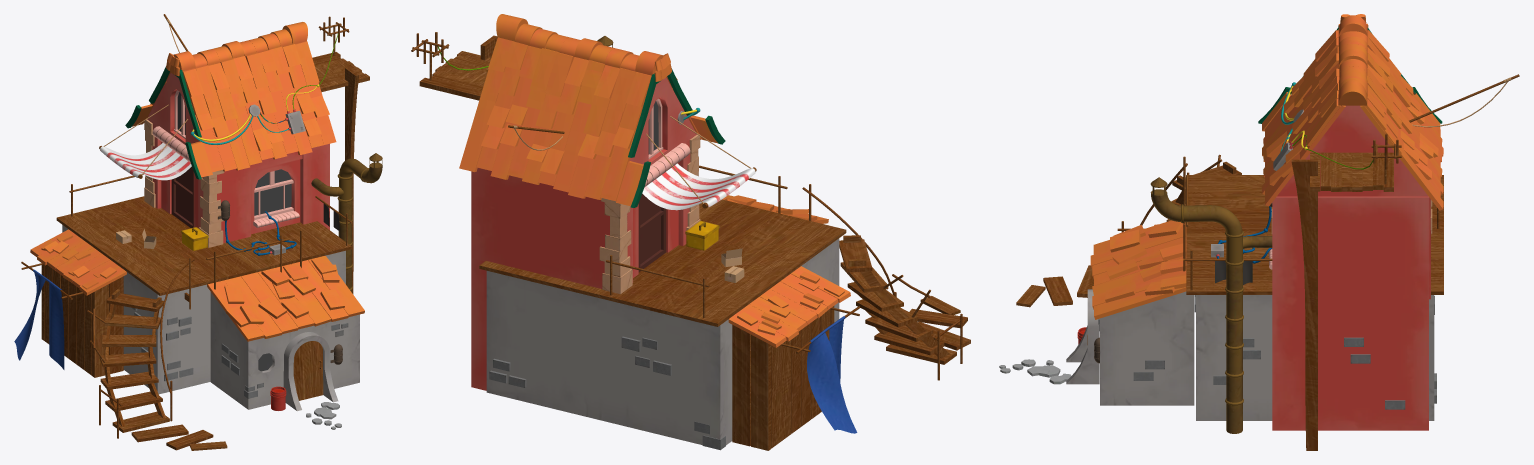
The model's file is diorama_house2.glb.
3 views of the same model, side by side, from view 1: azimuth 30°, elevation 25°; view 2: azimuth 150°, elevation 25°; view 3: azimuth 270°, elevation 25° (orthographic). The views are drawn at different scales.
Parts seen in each view (by area): view 1: MADERAS_Material #17_0, TEJAS_Material #18_0, ESTRUCTURA_Material #16_0, DETALLES_Material #19_0, CABLEADO_Material #20_0; view 2: ESTRUCTURA_Material #16_0, MADERAS_Material #17_0, TEJAS_Material #18_0, DETALLES_Material #19_0; view 3: ESTRUCTURA_Material #16_0, TEJAS_Material #18_0, MADERAS_Material #17_0, DETALLES_Material #19_0, CABLEADO_Material #20_0.
Part boxes in pixels (x1,y1,x2,y2): MADERAS_Material #17_0: (21,14,369,450); TEJAS_Material #18_0: (30,22,364,341); ESTRUCTURA_Material #16_0: (62,73,359,411); DETALLES_Material #19_0: (14,19,382,429); CABLEADO_Material #20_0: (190,33,342,364); ESTRUCTURA_Material #16_0: (471,77,839,445); MADERAS_Material #17_0: (411,32,970,450); TEJAS_Material #18_0: (459,14,850,347); DETALLES_Material #19_0: (489,36,857,450); ESTRUCTURA_Material #16_0: (1066,105,1434,430); TEJAS_Material #18_0: (1090,14,1443,319); MADERAS_Material #17_0: (1016,74,1519,450); DETALLES_Material #19_0: (999,27,1511,433); CABLEADO_Material #20_0: (1094,82,1373,363).
Bounding box in the file's own units: 40.02 × 31.58 × 42.58.
Materials: 5 (5 with a texture image).
